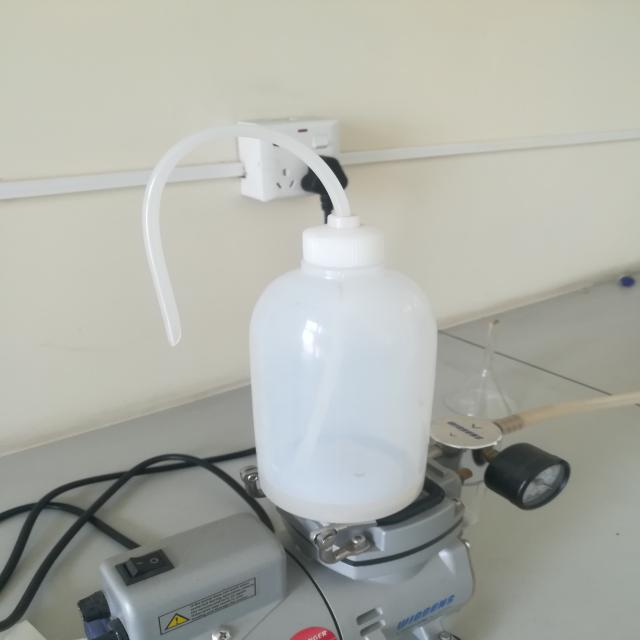Wash_Bottle: (112, 96, 478, 554)
